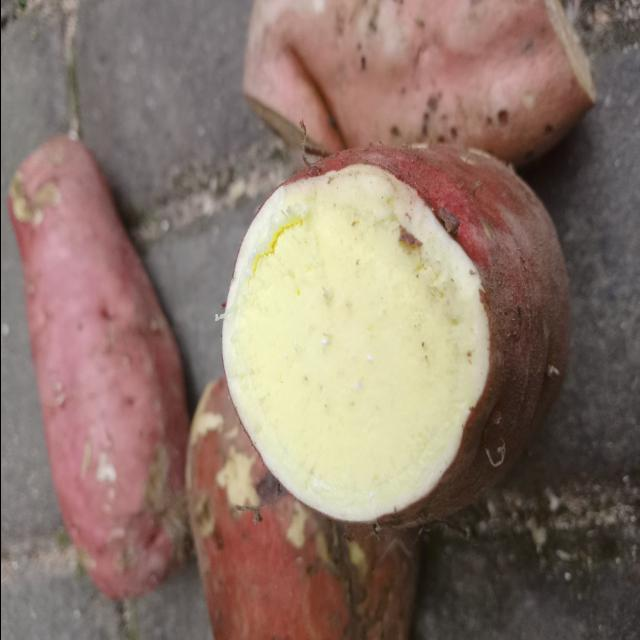Healthy Sweet Potato: (221, 165, 488, 522)
